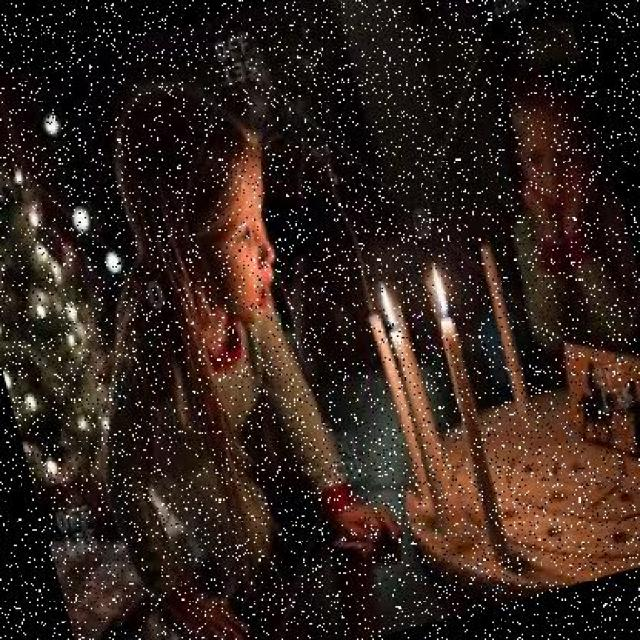fire: (418, 254, 457, 320), (368, 272, 398, 331)
